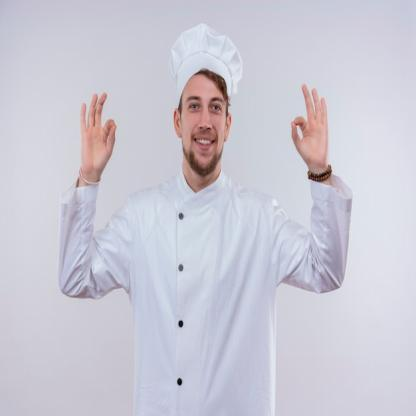ok: (76, 88, 118, 182), (288, 78, 330, 172)
